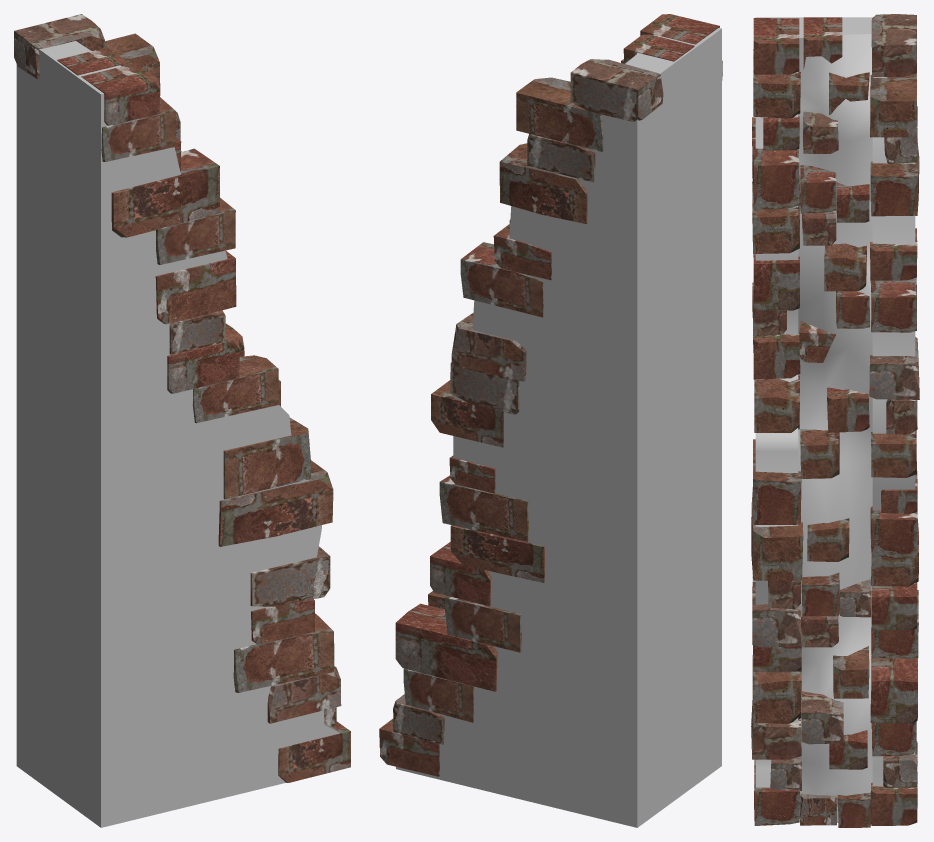
File: SM_Wall_Thick_Ruined_010.fbx
The picture shows the model from 3 angles, left to right: view 1: azimuth 30°, elevation 25°; view 2: azimuth 150°, elevation 25°; view 3: azimuth 270°, elevation 25°; orthographic projection. The views are drawn at different scales.
Visible parts, largest first — view 1: SM_Wall_Thick_Ruined_010_LOD0; view 2: SM_Wall_Thick_Ruined_010_LOD0; view 3: SM_Wall_Thick_Ruined_010_LOD0.
Part boxes in pixels (x1,y1,x2,y2): SM_Wall_Thick_Ruined_010_LOD0: (14,14,350,827); SM_Wall_Thick_Ruined_010_LOD0: (379,14,722,827); SM_Wall_Thick_Ruined_010_LOD0: (751,14,919,827).
Size of what is drawn, in the model's own units: 221 by 605 by 132.
